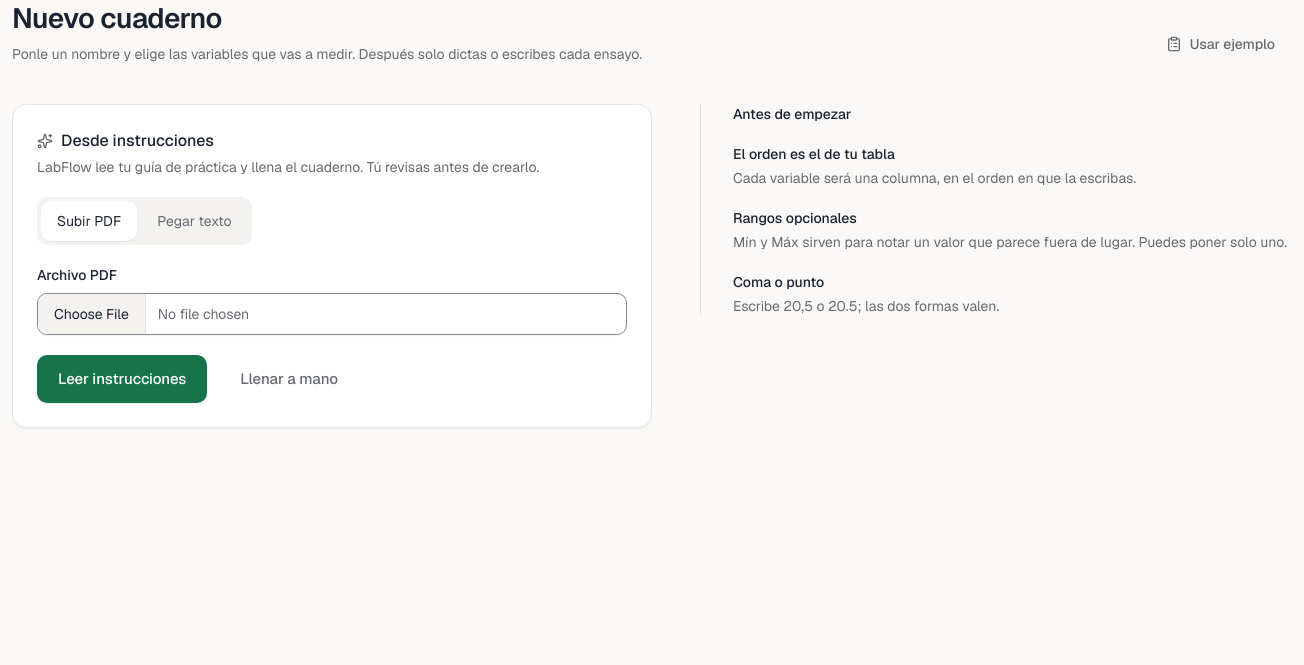
Test: Usar ejemplo (AC-6) › fills the sample without sending it, then hides
Click the button "Llenar a mano". click: (289, 379)
box: [219, 355, 359, 403]
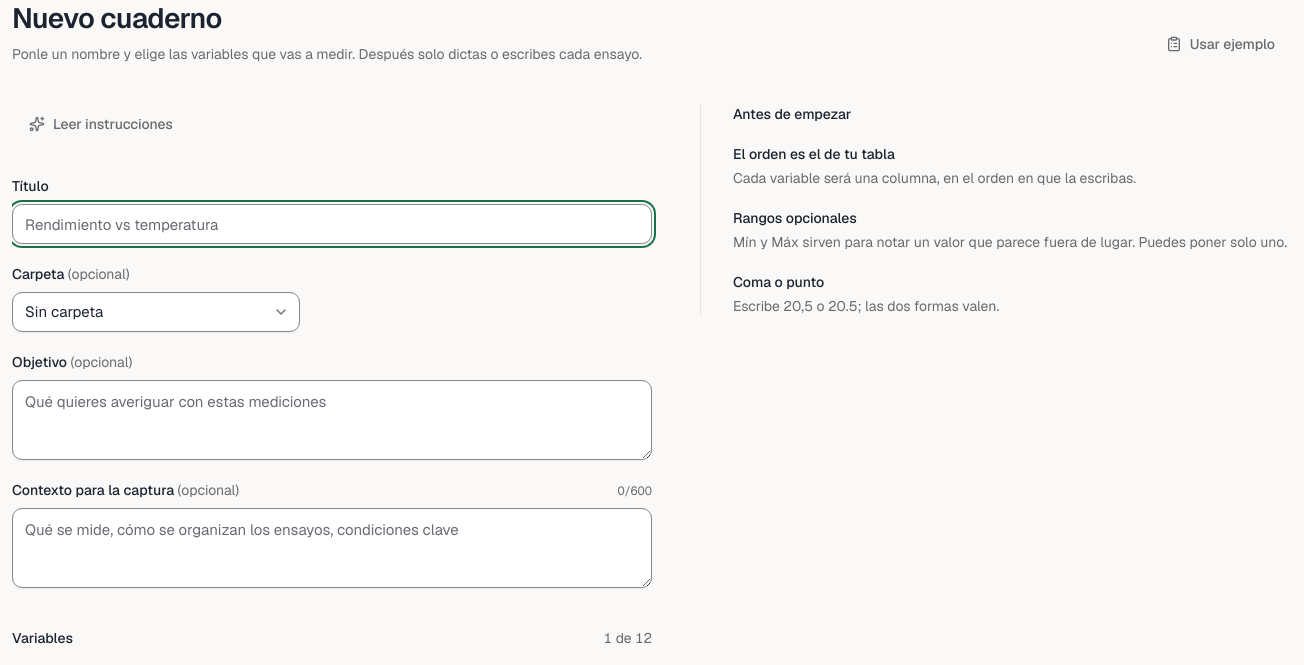
Click the button "Usar ejemplo". click: (1220, 44)
box: [1149, 24, 1292, 64]
(page scrolled)
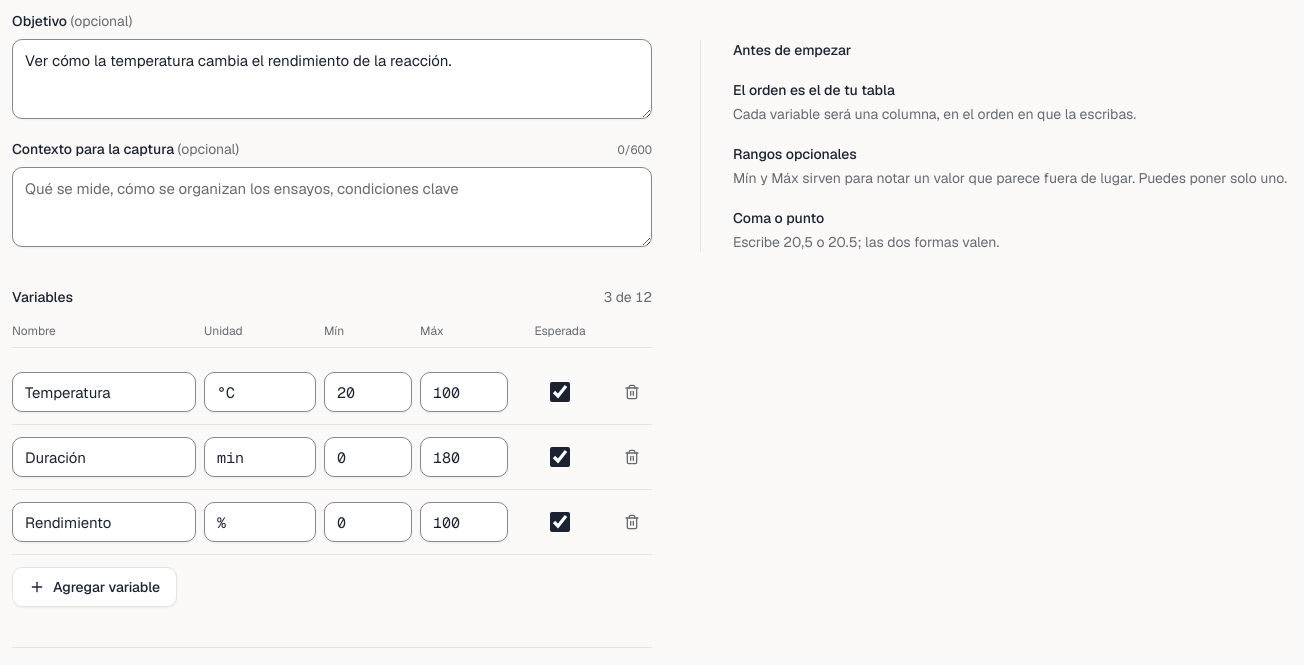
Result: the 9th field named "Nombre, variable 3" holds "Rendimiento" at [12, 502, 196, 542]
Result: the 8th field named "Máx, variable 2" holds "180" at [420, 437, 508, 477]
Result: the button "Usar ejemplo" is gone
